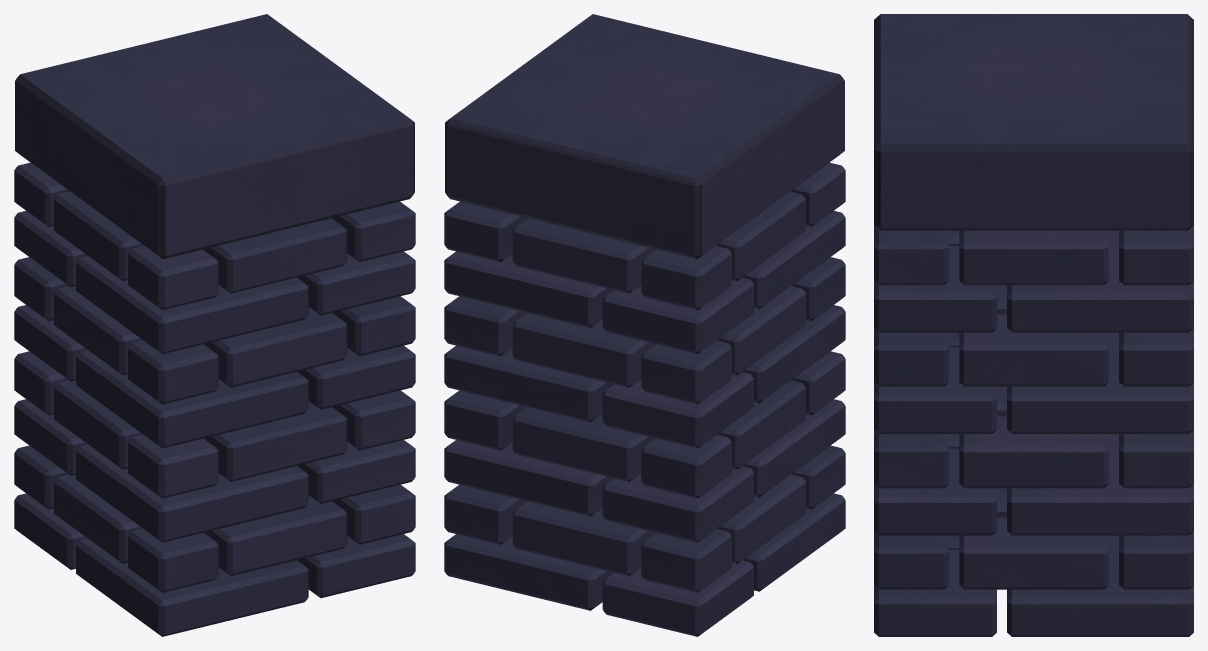
Rendered from def_cube.fbx.
3 views of the same model, side by side, from view 1: azimuth 30°, elevation 25°; view 2: azimuth 150°, elevation 25°; view 3: azimuth 270°, elevation 25° (orthographic). The views are drawn at different scales.
Visible parts, largest first — view 1: Cube.017; view 2: Cube.017; view 3: Cube.017.
Part boxes in pixels (x1,y1,x2,y2): Cube.017: (14, 14, 415, 636); Cube.017: (444, 14, 845, 636); Cube.017: (874, 14, 1193, 636).
Bounding box in the file's own units: 200 × 340 × 200.
Materials: 1 (1 with a texture image).
